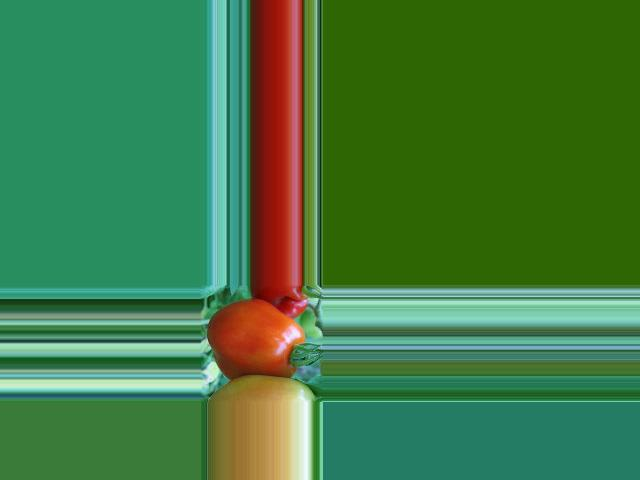tomato: (207, 299, 305, 376)
